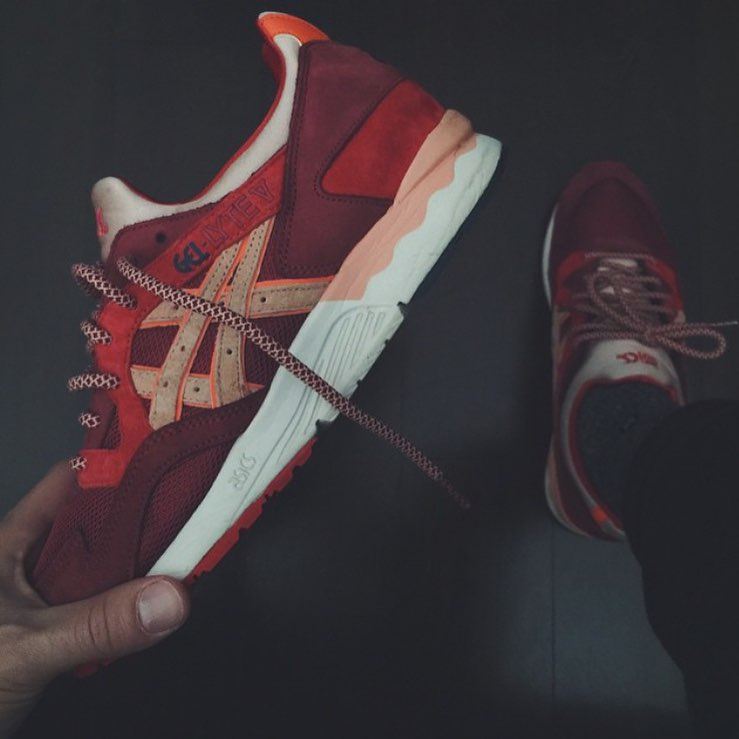sneaker: (518, 151, 739, 556)
